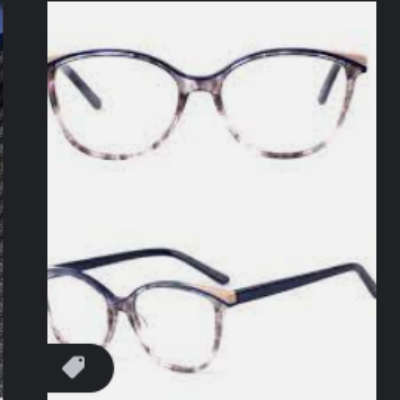glasses: (48, 244, 376, 377), (46, 45, 377, 176)
